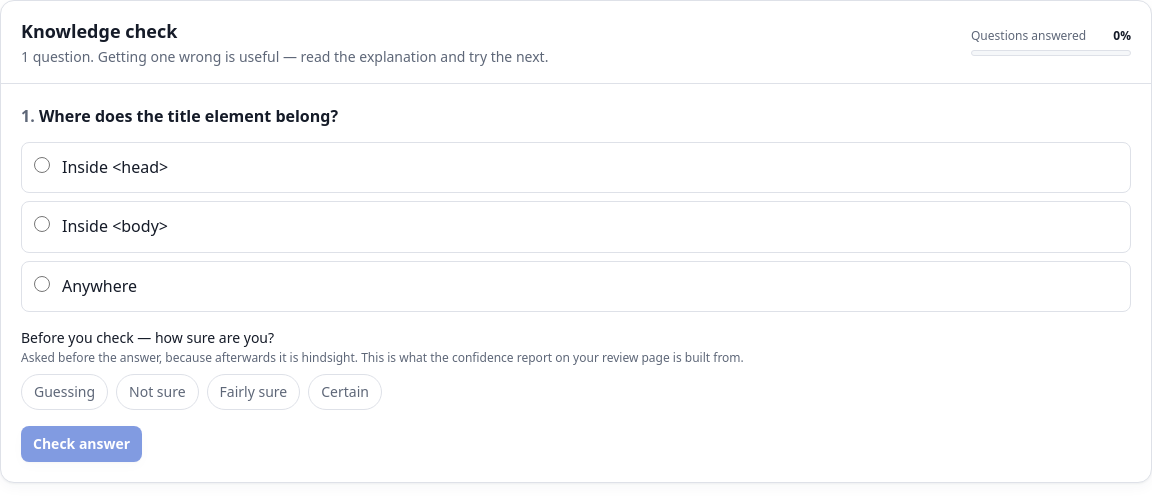
Test: quiz › grades through the server action and shows the explanation
Click the radio button labelled "Inside <head>" at (42,165), box [34,157,50,173]
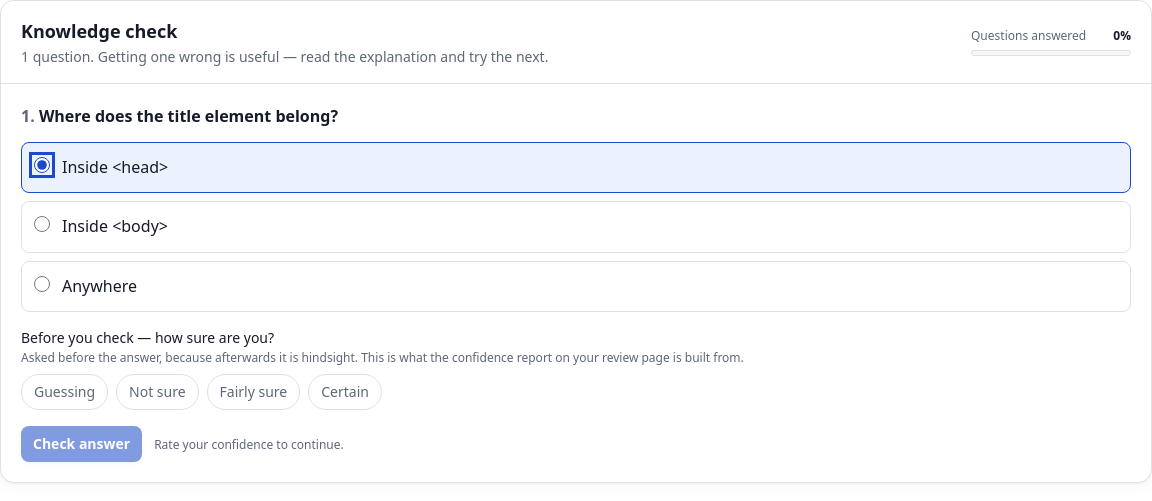
Click the radio button labelled "Certain" at (345,392), box [308,374,382,410]
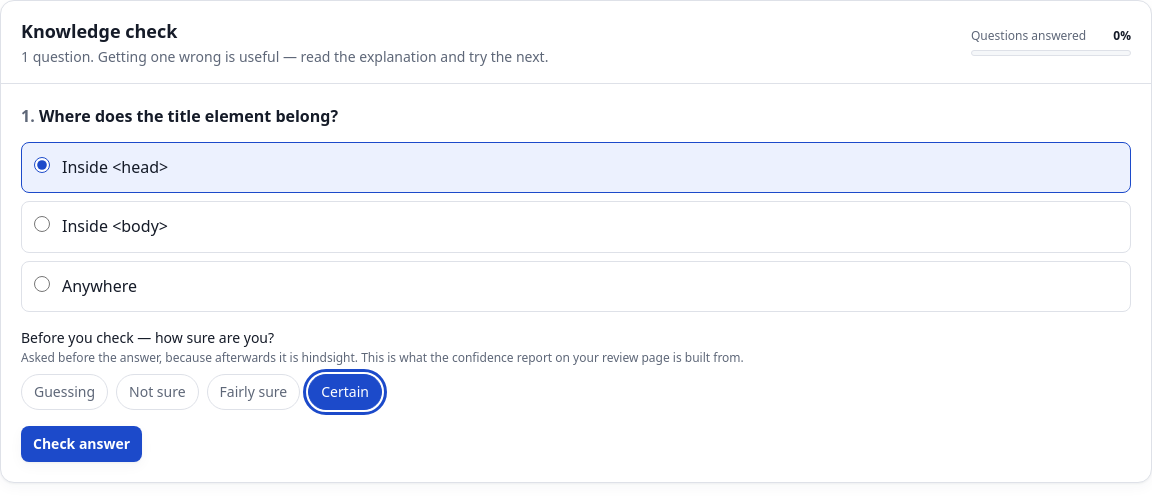
Click the button "Check answer" at (82,444), box [21,426,142,462]
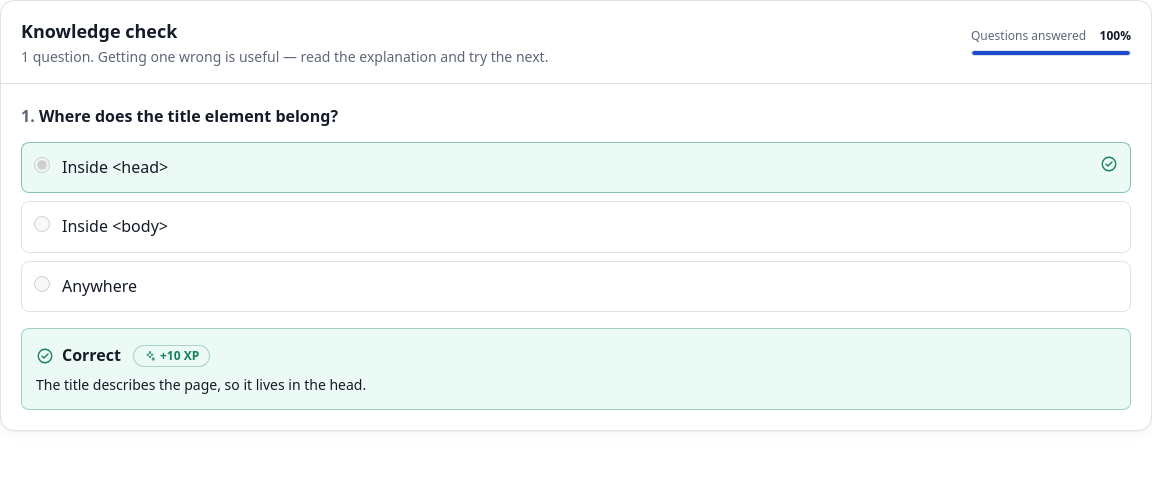
Expected: the text "The title describes the page, so it lives in the head." is shown, [36,375,366,394]
Expected: the text "Correct" is shown, [62,344,121,366]
Expected: the text "+10 XP" is shown, [133,345,210,367]
